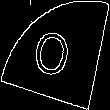O_S: (32, 24, 78, 86)
